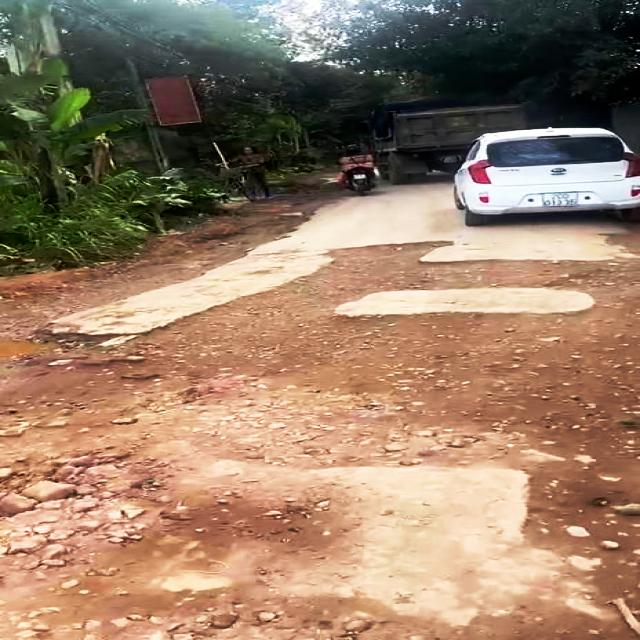pothole: (123, 235, 640, 451), (0, 321, 121, 373)
